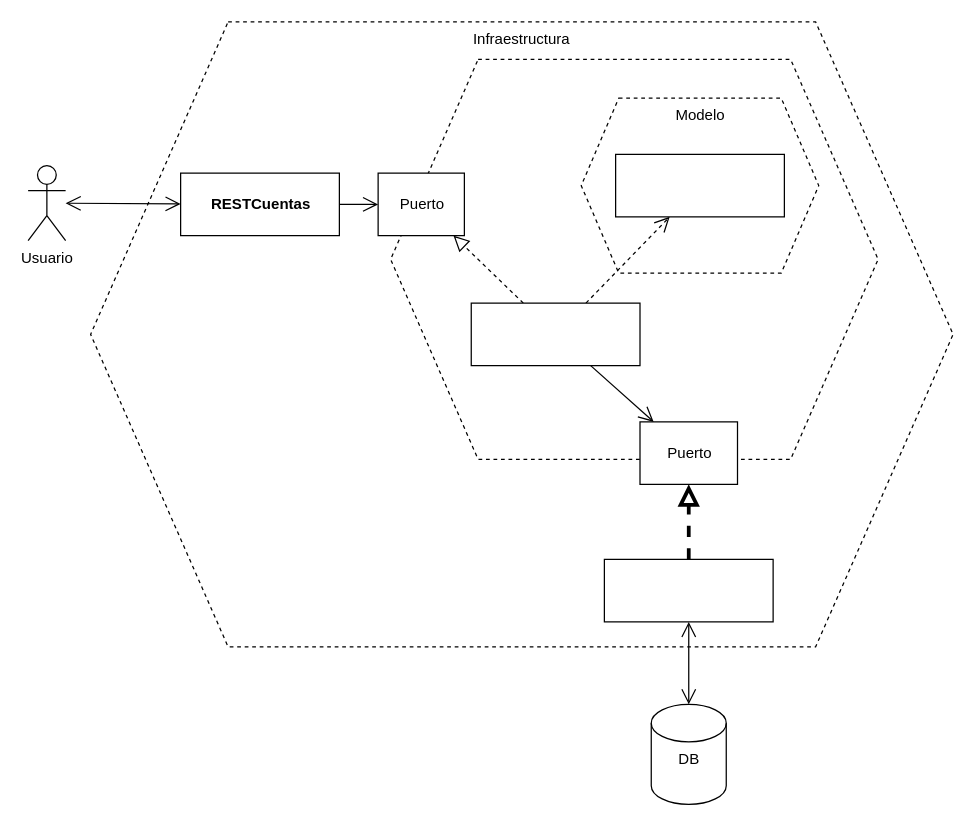
The diagram is 975 pixels wide and 826 high, and some of its shapes have lost their labels. The shapes that lost their labels are listed below. From the top down, each one's box as (x1, y1, x2, y2) in pixels, then its label:
(614, 153, 784, 217): Cuenta
(389, 58, 878, 459): Aplicativo
(470, 302, 640, 366): ServicioCuentas
(603, 558, 773, 622): DbCuentas
